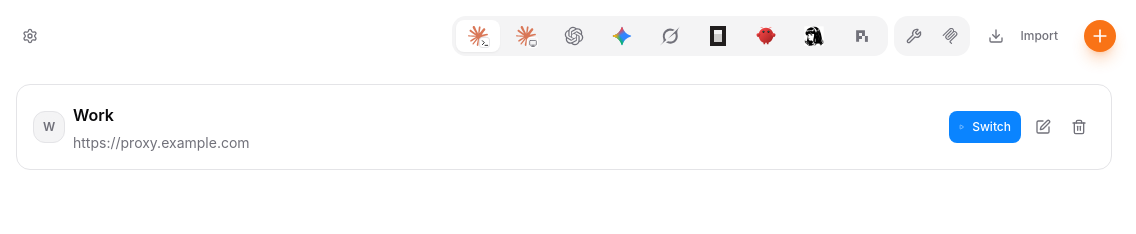
Test: App › switches a stored provider and marks it current
Click the button with aria-label "Switch to Work" at (985, 127), box [949,111,1021,143]
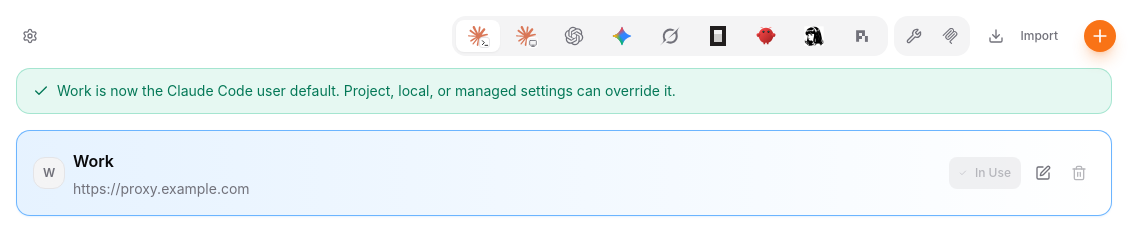
Result: the button with aria-label "Work is the Claude Code user default" is disabled at [949,157,1021,189]
Result: the message shows "Work is now the Claude Code user default. Project, local, or managed settings can override it." at [57,82,676,99]
